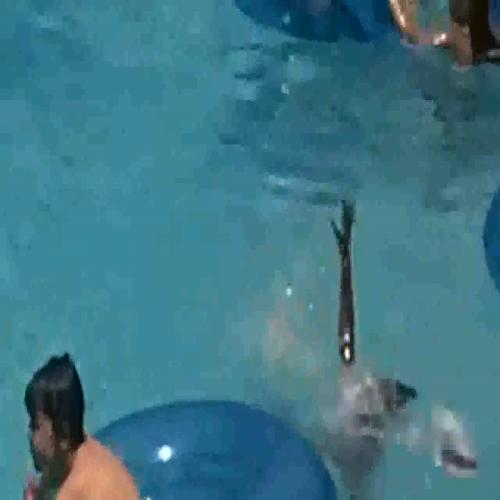drowning: (312, 192, 483, 485)
swimming: (2, 362, 164, 499), (385, 0, 499, 97)
